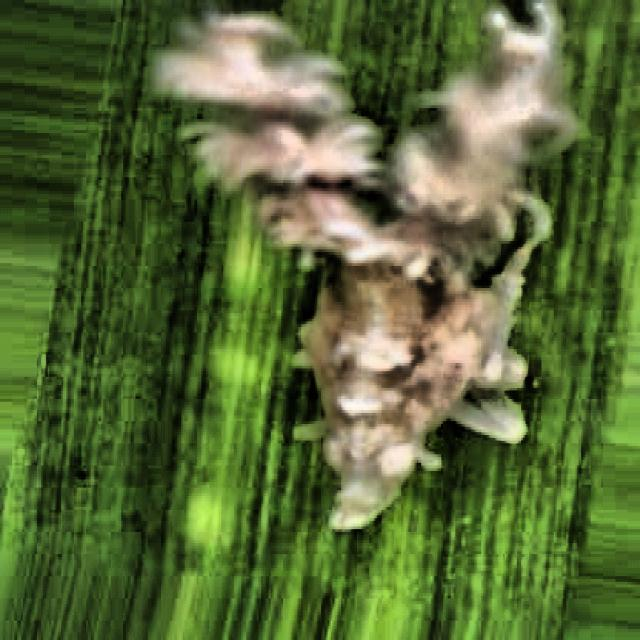Pyrilla-perpusilla: (134, 0, 608, 543)
